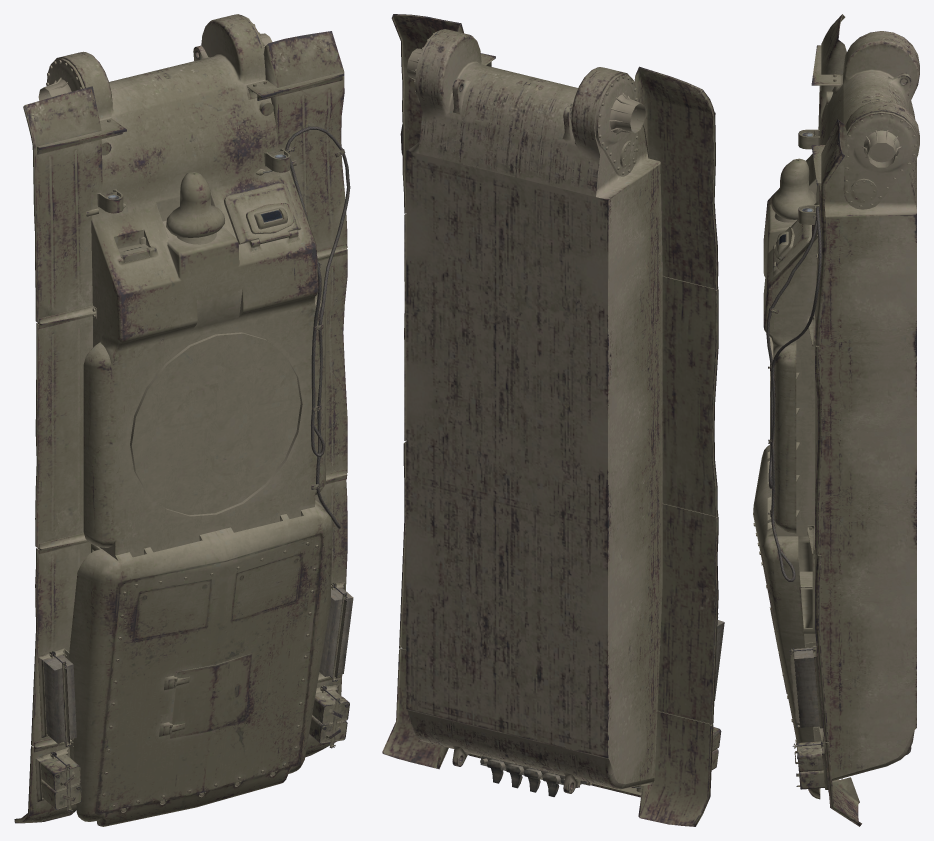
File: Hull.glb
3 views of the same model, side by side, from view 1: azimuth 30°, elevation 25°; view 2: azimuth 150°, elevation 25°; view 3: azimuth 270°, elevation 25° (orthographic). The views are drawn at different scales.
Visible parts, largest first — view 1: set_0_group_0; view 2: set_0_group_0; view 3: set_0_group_0.
Part boxes in pixels (left/top/right/bottom): set_0_group_0: left=14, top=14, right=353, bottom=826; set_0_group_0: left=382, top=14, right=724, bottom=826; set_0_group_0: left=753, top=14, right=919, bottom=826.
Bounding box in the file's own units: 2.79 × 6.33 × 1.39.
Materials: 1 (1 with a texture image).
